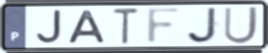A: (66, 9, 108, 45)
F: (145, 6, 184, 46)
J: (185, 6, 221, 45), (34, 8, 63, 45)
T: (111, 7, 141, 46)
U: (222, 5, 260, 46)
